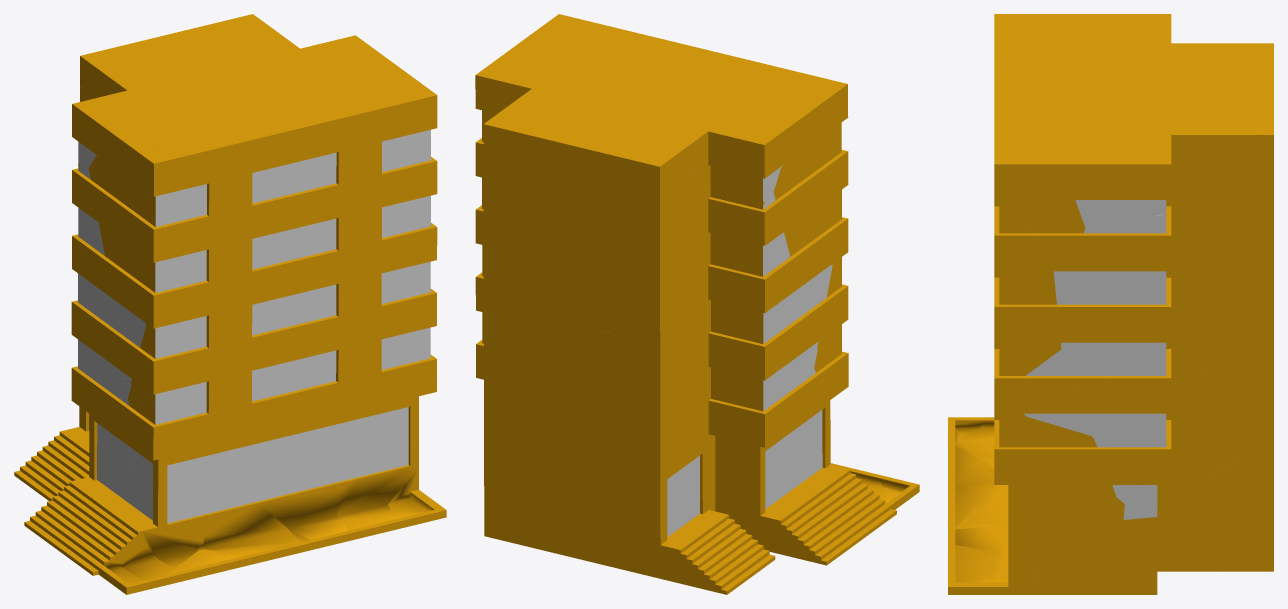
File: BuildingYellowBroken.fbx
3 renders of one model, left to right at view 1: azimuth 30°, elevation 25°; view 2: azimuth 150°, elevation 25°; view 3: azimuth 270°, elevation 25°, orthographic. The views are drawn at different scales.
Visible parts, largest first — view 1: polySurface1_cell.046, polySurface1_cell.038, polySurface1_cell.107, polySurface1_cell.064, polySurface1_cell.110, polySurface1_cell.025, polySurface1_cell.106, polySurface1_cell.018, polySurface1_cell.019, polySurface1_cell.010, polySurface1_cell.036, polySurface1_cell.080 (+41 smaller); view 2: polySurface1_cell.011, polySurface1_cell.070, polySurface1_cell.081, polySurface1_cell.015, polySurface1_cell.084, polySurface1_cell.114, polySurface1_cell.087, polySurface1_cell.094, polySurface1_cell.018, polySurface1_cell.064, polySurface1_cell.106, polySurface1_cell.092 (+38 smaller); view 3: polySurface1_cell.103, polySurface1_cell.063, polySurface1_cell.086, polySurface1_cell.112, polySurface1_cell.080, polySurface1_cell.097, polySurface1_cell.095, polySurface1_cell.064, polySurface1_cell.046, polySurface1_cell.115, polySurface1_cell.083, polySurface1_cell.018 (+28 smaller).
Boxes of the visible parts, x1,y1,x2,y2 form: polySurface1_cell.046: [324, 194, 437, 325]; polySurface1_cell.038: [228, 136, 352, 255]; polySurface1_cell.107: [243, 235, 346, 384]; polySurface1_cell.064: [191, 79, 352, 188]; polySurface1_cell.110: [128, 323, 246, 409]; polySurface1_cell.025: [247, 433, 355, 542]; polySurface1_cell.106: [85, 155, 178, 287]; polySurface1_cell.018: [90, 99, 228, 168]; polySurface1_cell.019: [189, 249, 269, 351]; polySurface1_cell.010: [268, 342, 378, 426]; polySurface1_cell.036: [174, 406, 271, 520]; polySurface1_cell.080: [326, 72, 437, 151]; polySurface1_cell.011: [483, 112, 618, 243]; polySurface1_cell.070: [501, 312, 668, 428]; polySurface1_cell.081: [497, 242, 666, 348]; polySurface1_cell.015: [687, 192, 793, 336]; polySurface1_cell.084: [662, 314, 792, 429]; polySurface1_cell.114: [610, 155, 764, 296]; polySurface1_cell.087: [484, 405, 590, 539]; polySurface1_cell.094: [637, 393, 752, 499]; polySurface1_cell.018: [712, 66, 828, 166]; polySurface1_cell.064: [596, 37, 752, 98]; polySurface1_cell.106: [773, 140, 848, 262]; polySurface1_cell.092: [599, 131, 729, 205]; polySurface1_cell.103: [1075, 105, 1258, 254]; polySurface1_cell.063: [1050, 240, 1205, 372]; polySurface1_cell.086: [1089, 290, 1265, 437]; polySurface1_cell.112: [994, 413, 1116, 532]; polySurface1_cell.080: [994, 115, 1085, 258]; polySurface1_cell.097: [1112, 363, 1249, 505]; polySurface1_cell.095: [1198, 452, 1273, 571]; polySurface1_cell.064: [994, 58, 1121, 124]; polySurface1_cell.046: [994, 263, 1061, 393]; polySurface1_cell.115: [1008, 497, 1124, 574]; polySurface1_cell.083: [1099, 35, 1217, 112]; polySurface1_cell.018: [994, 14, 1156, 58].
Size of the model in its own units: 9553 by 10923 by 7371.
